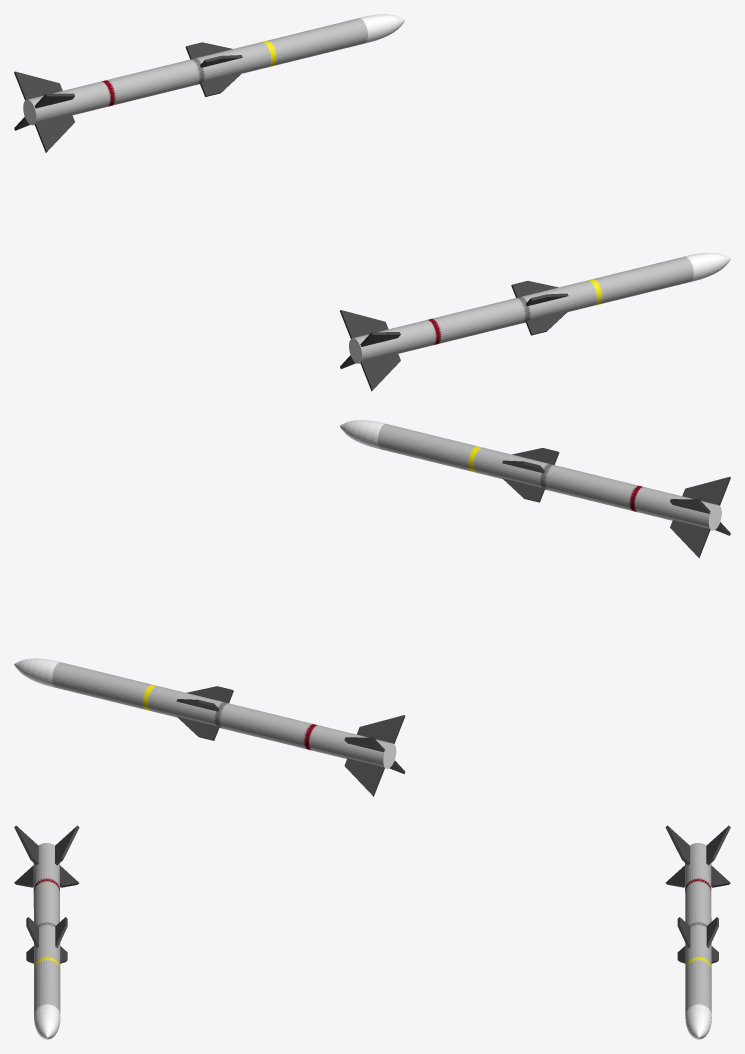
Rendered from aam4lf2a34.glb.
The picture shows the model from 3 angles, top to bottom: view 1: azimuth 30°, elevation 25°; view 2: azimuth 150°, elevation 25°; view 3: azimuth 270°, elevation 25°; orthographic projection.
Visible parts, largest first — view 1: 球.001, 球.002; view 2: 球.002, 球.001; view 3: 球.001, 球.002.
Part boxes in pixels (x1,y1,x2,y2): 球.001: [14, 14, 404, 152]; 球.002: [340, 252, 730, 391]; 球.002: [339, 420, 730, 558]; 球.001: [14, 658, 405, 796]; 球.001: [665, 825, 730, 1039]; 球.002: [14, 825, 79, 1039].
Bounding box in the file's own units: 4.82 × 0.7293 × 7.96.
Materials: 3 (1 with a texture image).
